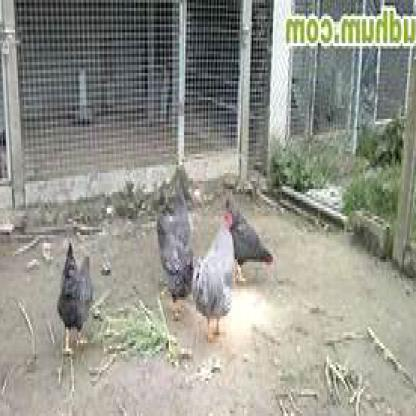chicken: (190, 214, 235, 349), (155, 189, 193, 303), (56, 240, 92, 360), (234, 202, 280, 275)
